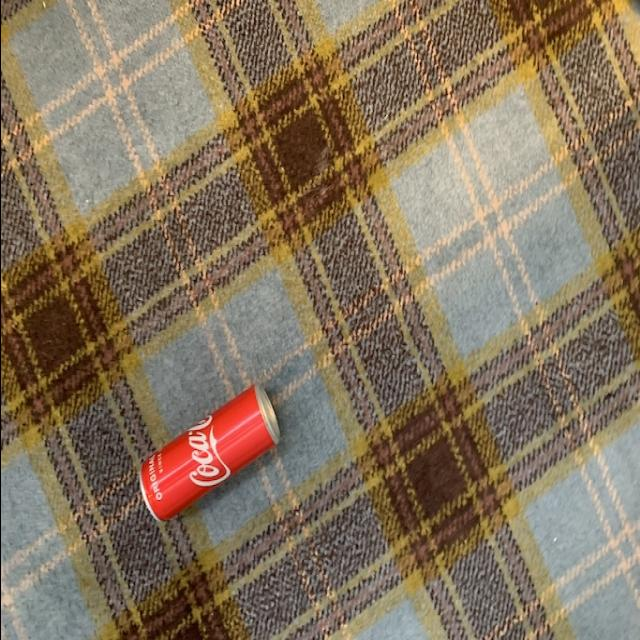litter: (129, 385, 283, 529)
